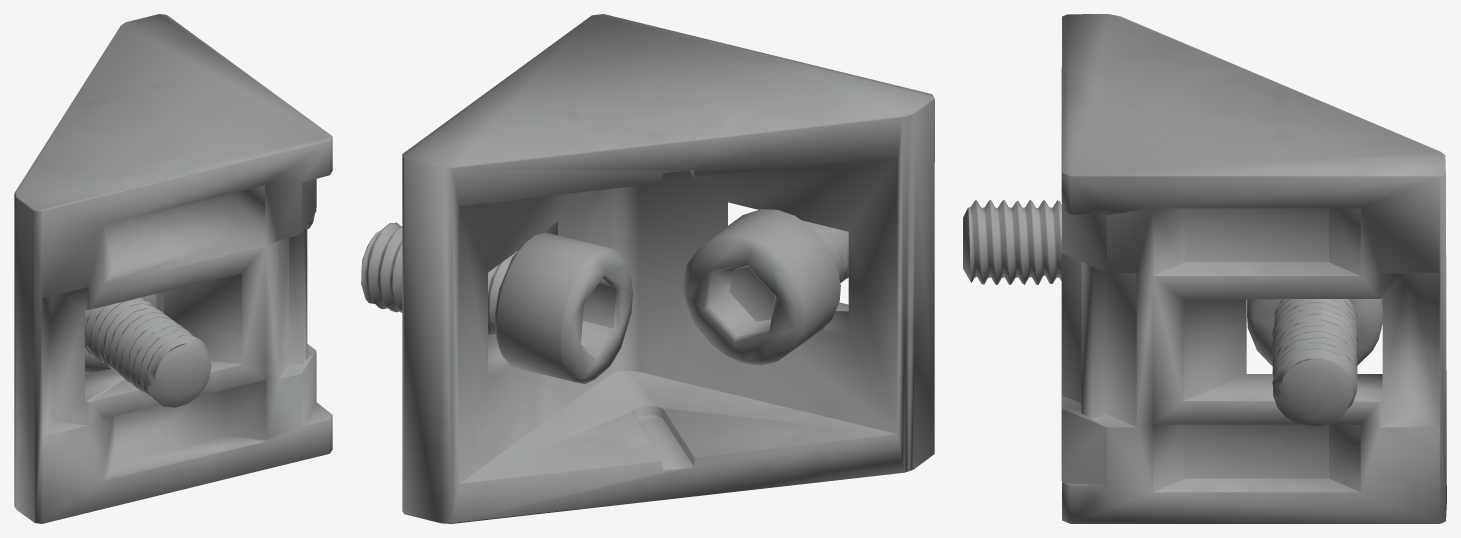
File: hardware_bracket_smallcorner_a01.glb
The picture shows the model from 3 angles, left to right: view 1: azimuth 30°, elevation 25°; view 2: azimuth 150°, elevation 25°; view 3: azimuth 270°, elevation 25°; orthographic projection. The views are drawn at different scales.
Visible parts, largest first — view 1: part0; view 2: part0; view 3: part0.
Boxes of the visible parts, x1,y1,x2,y2 form: part0: [14, 14, 332, 523]; part0: [361, 14, 934, 523]; part0: [963, 14, 1446, 523].
Size of the model in its own units: 0.0228 by 0.0179 by 0.0226.
Materials: 1 (1 with a texture image).
